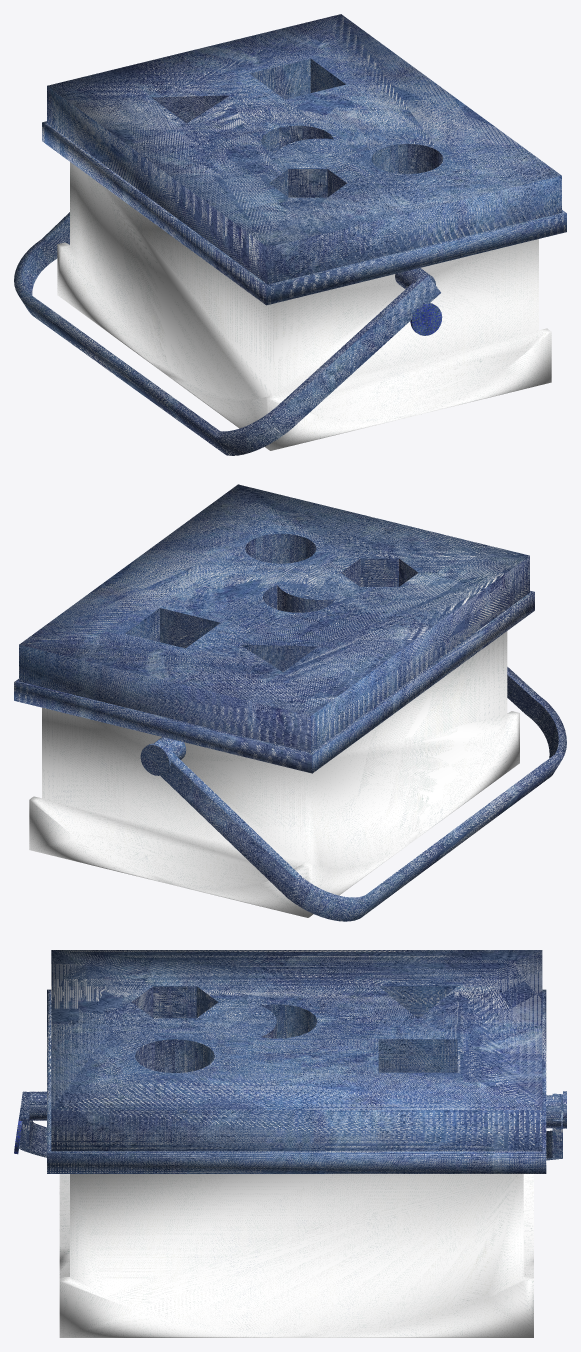
File: Toy base.fbx
3 renders of one model, top to bottom at view 1: azimuth 30°, elevation 25°; view 2: azimuth 150°, elevation 25°; view 3: azimuth 270°, elevation 25°, orthographic. The views are drawn at different scales.
Visible parts, largest first — view 1: Group1; view 2: Group1; view 3: Group1.
Part boxes in pixels (x1,y1,x2,y2): Group1: (14, 14, 566, 455); Group1: (14, 484, 566, 921); Group1: (14, 950, 566, 1337).
Bounding box in the file's own units: 37.16 × 21.8 × 46.97.
